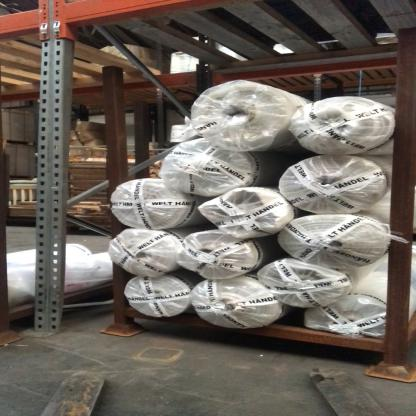vertical_damage: (24, 279, 73, 345)
